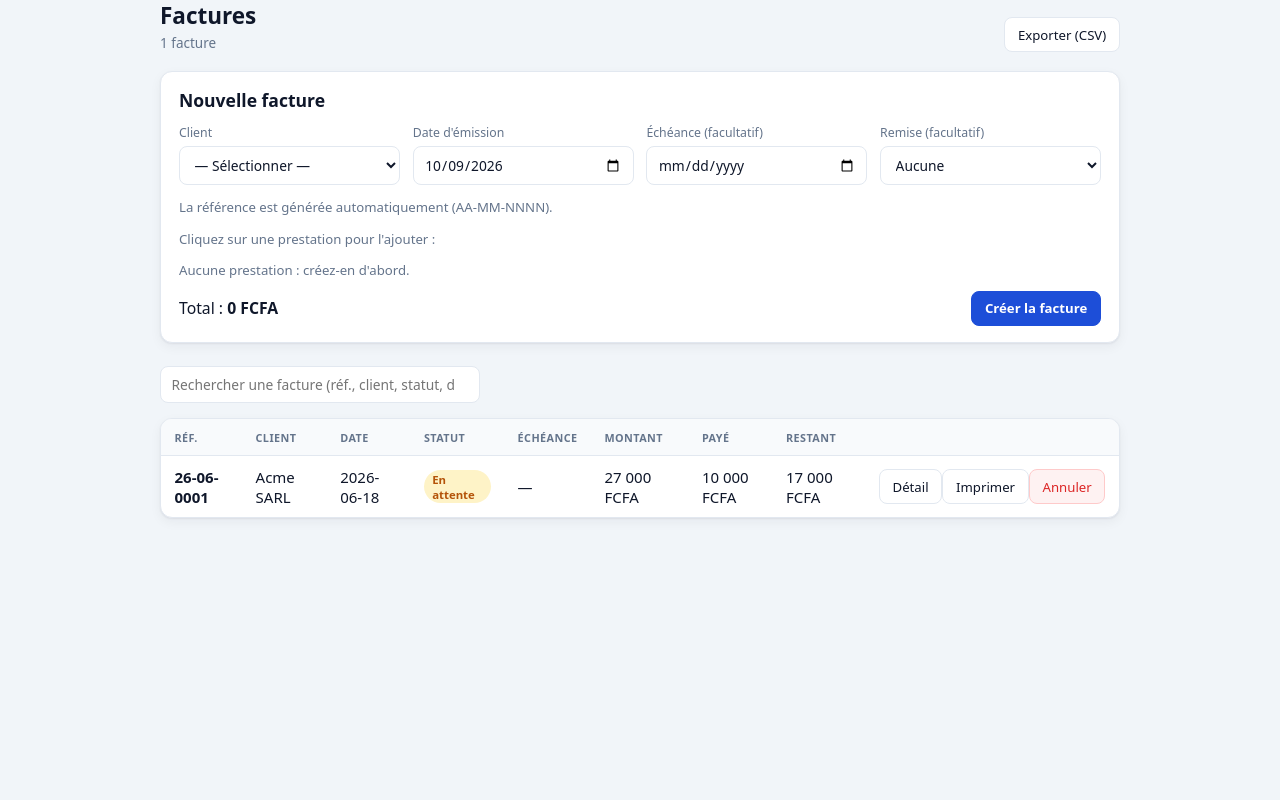
it: NotesPage — reçus › propose de générer le reçu quand le paiement n'en a pas
The image size is (1280, 800).
What coordinates should you click on to do the following:
click the button "Détail"
I would click on:
 (911, 487)
Its box is x1=879 y1=469 x2=942 y2=504.
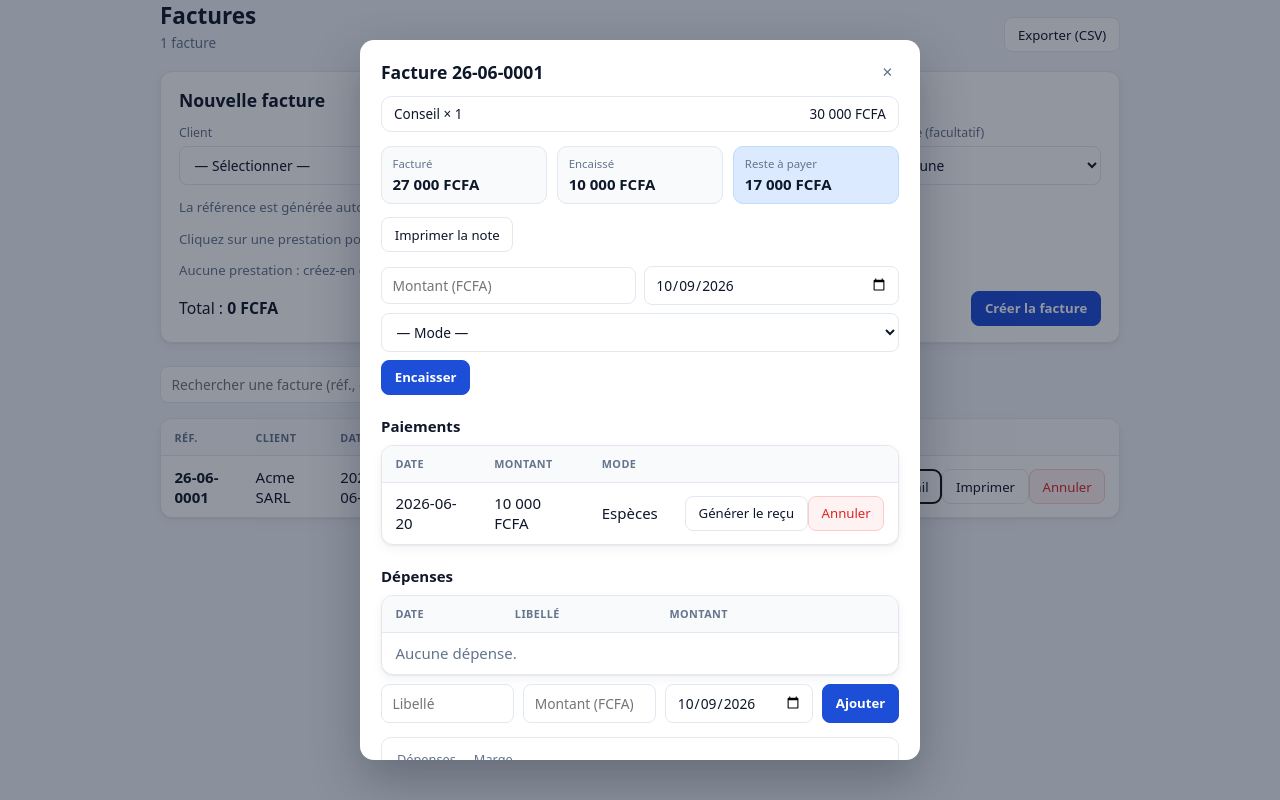
Now the button "Générer le reçu" is shown, box x1=685 y1=496 x2=808 y2=530
